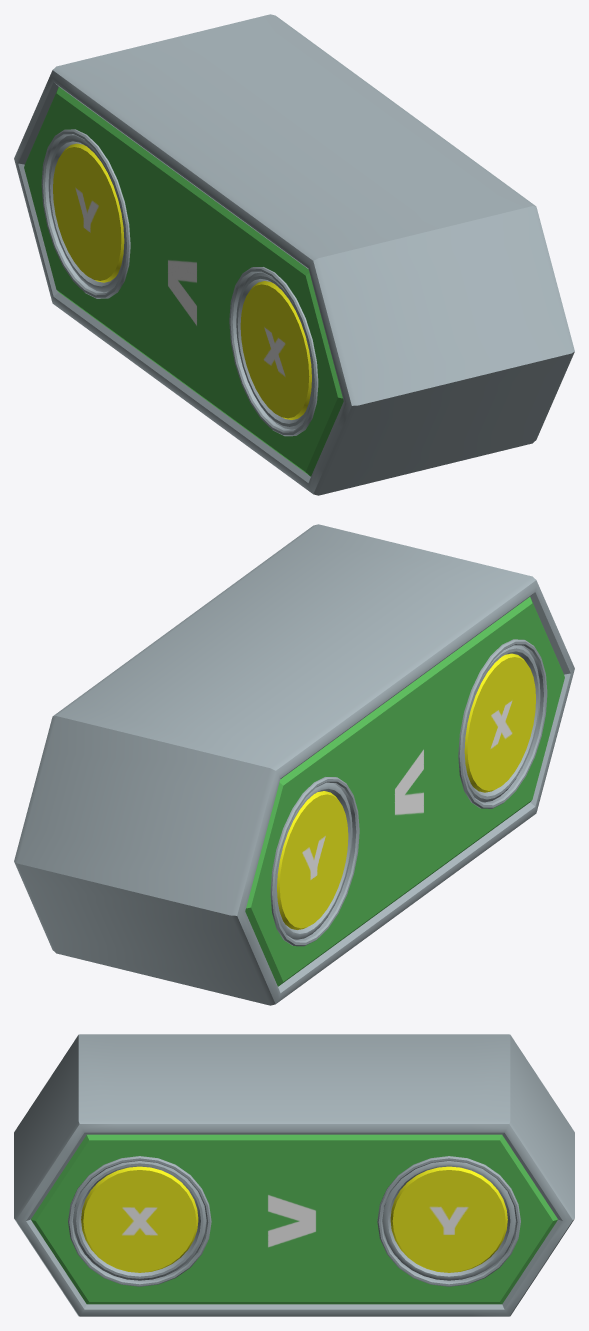
File: ConditionalGreater_IN.fbx
The picture shows the model from 3 angles, top to bottom: view 1: azimuth 30°, elevation 25°; view 2: azimuth 150°, elevation 25°; view 3: azimuth 270°, elevation 25°; orthographic projection. The views are drawn at different scales.
Visible parts, largest first — view 1: Conditional_Greater_IN, VariableBlock_Y_IN, VariableBlock_X_IN; view 2: Conditional_Greater_IN, VariableBlock_X_IN, VariableBlock_Y_IN; view 3: Conditional_Greater_IN, VariableBlock_X_IN, VariableBlock_Y_IN.
Part boxes in pixels (x1,y1,x2,y2): Conditional_Greater_IN: (14, 14, 574, 495); VariableBlock_Y_IN: (48, 135, 125, 292); VariableBlock_X_IN: (236, 272, 313, 429); Conditional_Greater_IN: (14, 524, 574, 1005); VariableBlock_X_IN: (463, 645, 540, 802); VariableBlock_Y_IN: (275, 782, 352, 939); Conditional_Greater_IN: (14, 1034, 574, 1316); VariableBlock_X_IN: (73, 1161, 206, 1280); VariableBlock_Y_IN: (382, 1161, 515, 1280).
Bounding box in the file's own units: 103 × 100 × 260.
Materials: 1 (1 with a texture image).
